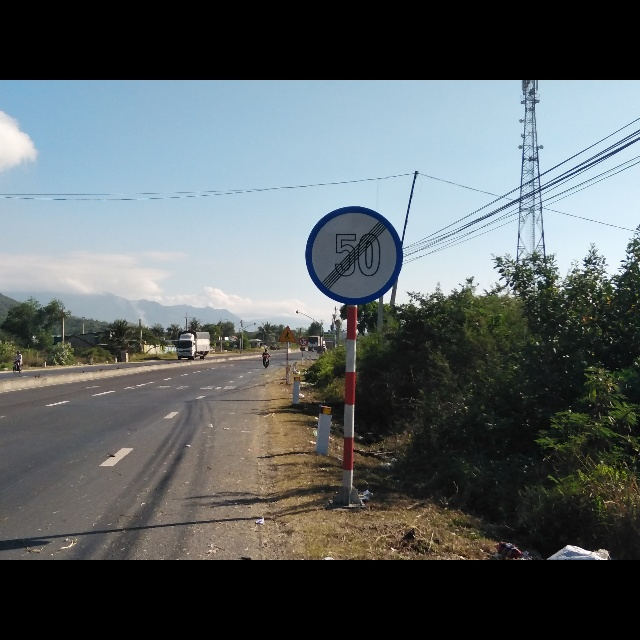Hết hạn chế tốc độ tối đa 50km/h: (302, 203, 405, 307)
